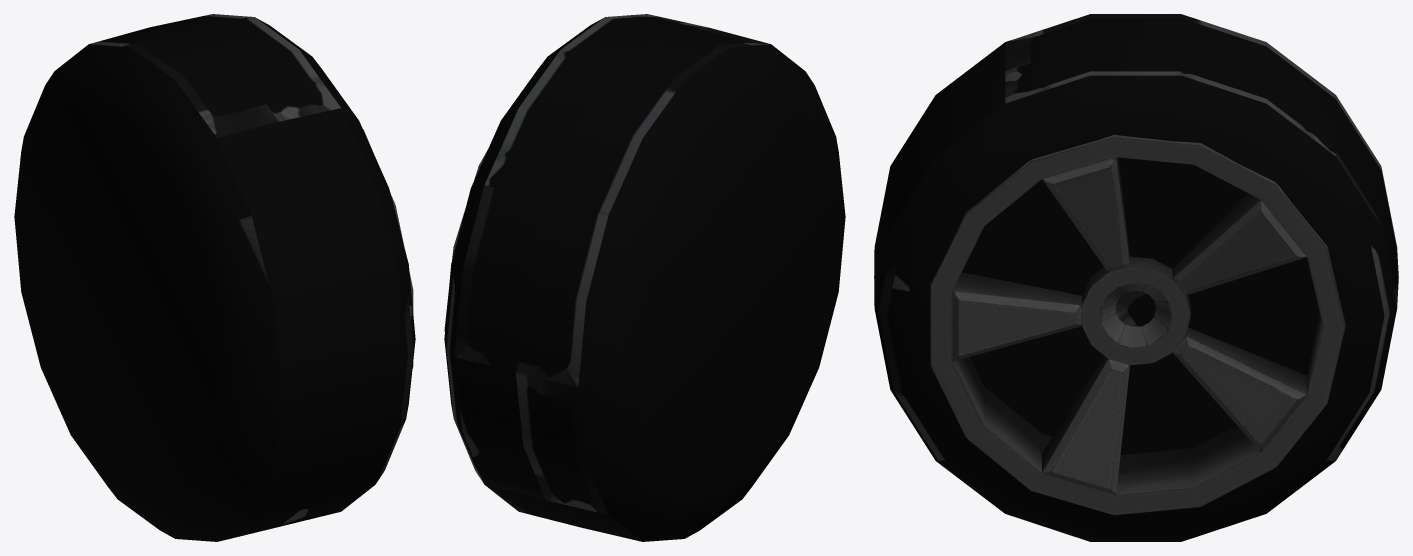
Rendered from wheel_textured.gltf.
3 views of the same model, side by side, from view 1: azimuth 30°, elevation 25°; view 2: azimuth 150°, elevation 25°; view 3: azimuth 270°, elevation 25° (orthographic).
Visible parts, largest first — view 1: FL_Wheel_Rims_0; view 2: FL_Wheel_Rims_0; view 3: FL_Wheel_Rims_0.
Boxes of the visible parts, <box> form: FL_Wheel_Rims_0: <box>14,14,415,541</box>; FL_Wheel_Rims_0: <box>444,14,845,541</box>; FL_Wheel_Rims_0: <box>874,14,1398,541</box>.
Bounding box in the file's own units: 0.3221 × 0.7215 × 0.7326.
2 materials, 2 textured.
